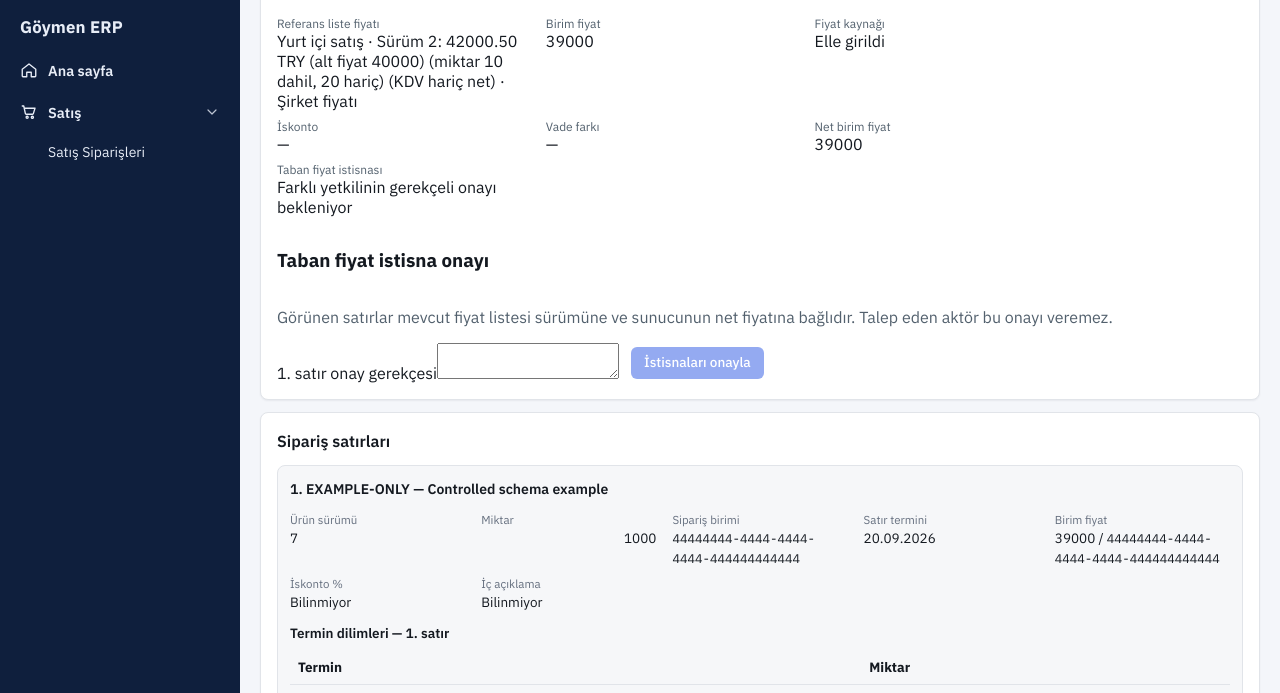
Test case: AT-021 below-floor exception approval control › shows a refusal and offers a correction without inventing an approval
(page scrolled)
Type "SENTETIK sözleşme" into the text box labelled "1. satır onay gerekçesi".
click(528, 361); type("SENTETIK sözleşme")  # box [437, 343, 619, 379]
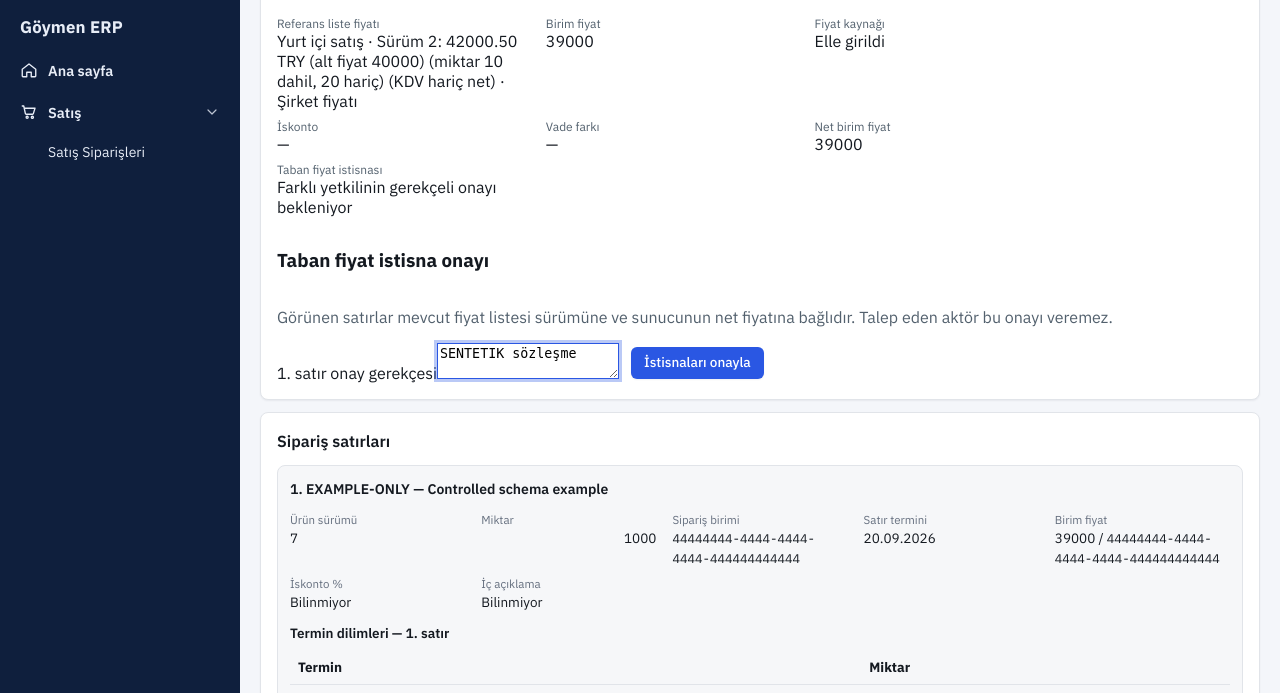
Click the button "İstisnaları onayla".
click(697, 363)  # box [631, 347, 764, 379]
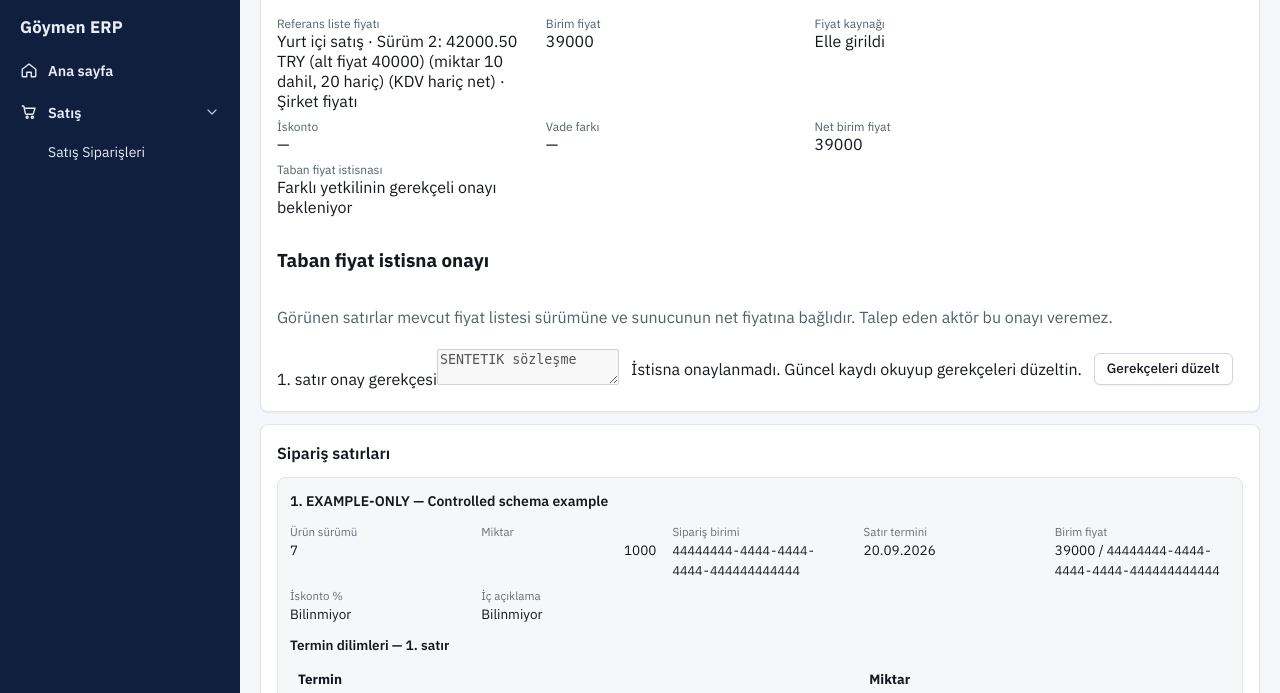
Expected: the message reads "İstisna onaylanmadı. Güncel kaydı okuyup gerekçeleri düzeltin.", [631, 359, 1082, 379]
Expected: the button "Gerekçeleri düzelt" is shown, [1094, 353, 1233, 385]
